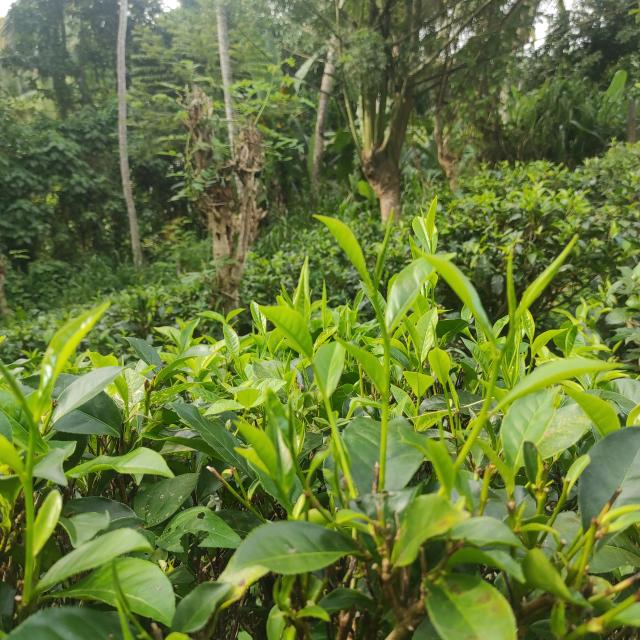unopened_leaf: (0, 353, 40, 432), (369, 202, 397, 288), (500, 240, 522, 324), (277, 279, 296, 313)
